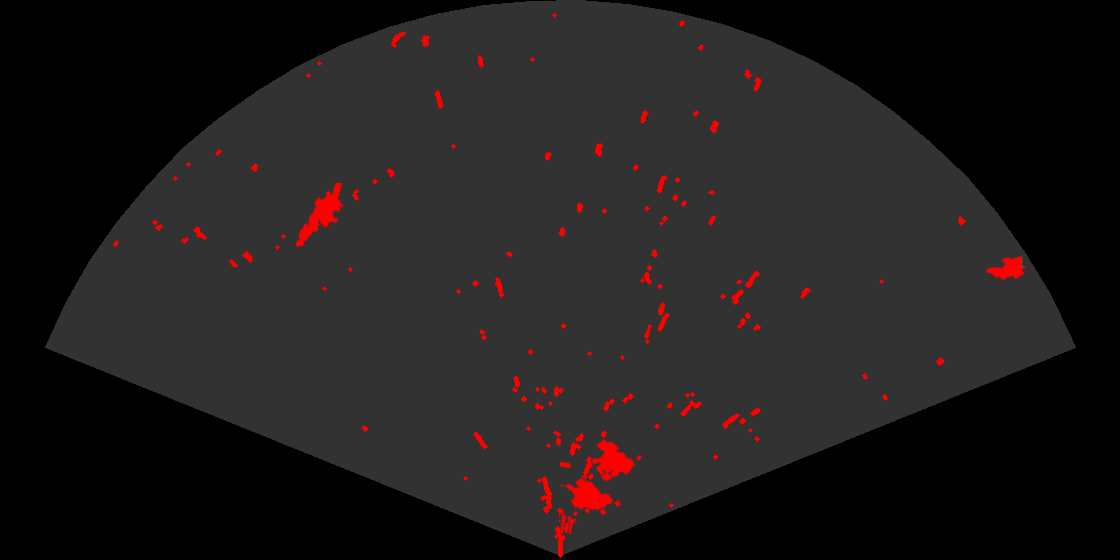AUV: (984, 254, 1028, 281)
cage: (560, 437, 636, 534)
frogman: (294, 183, 344, 249)
